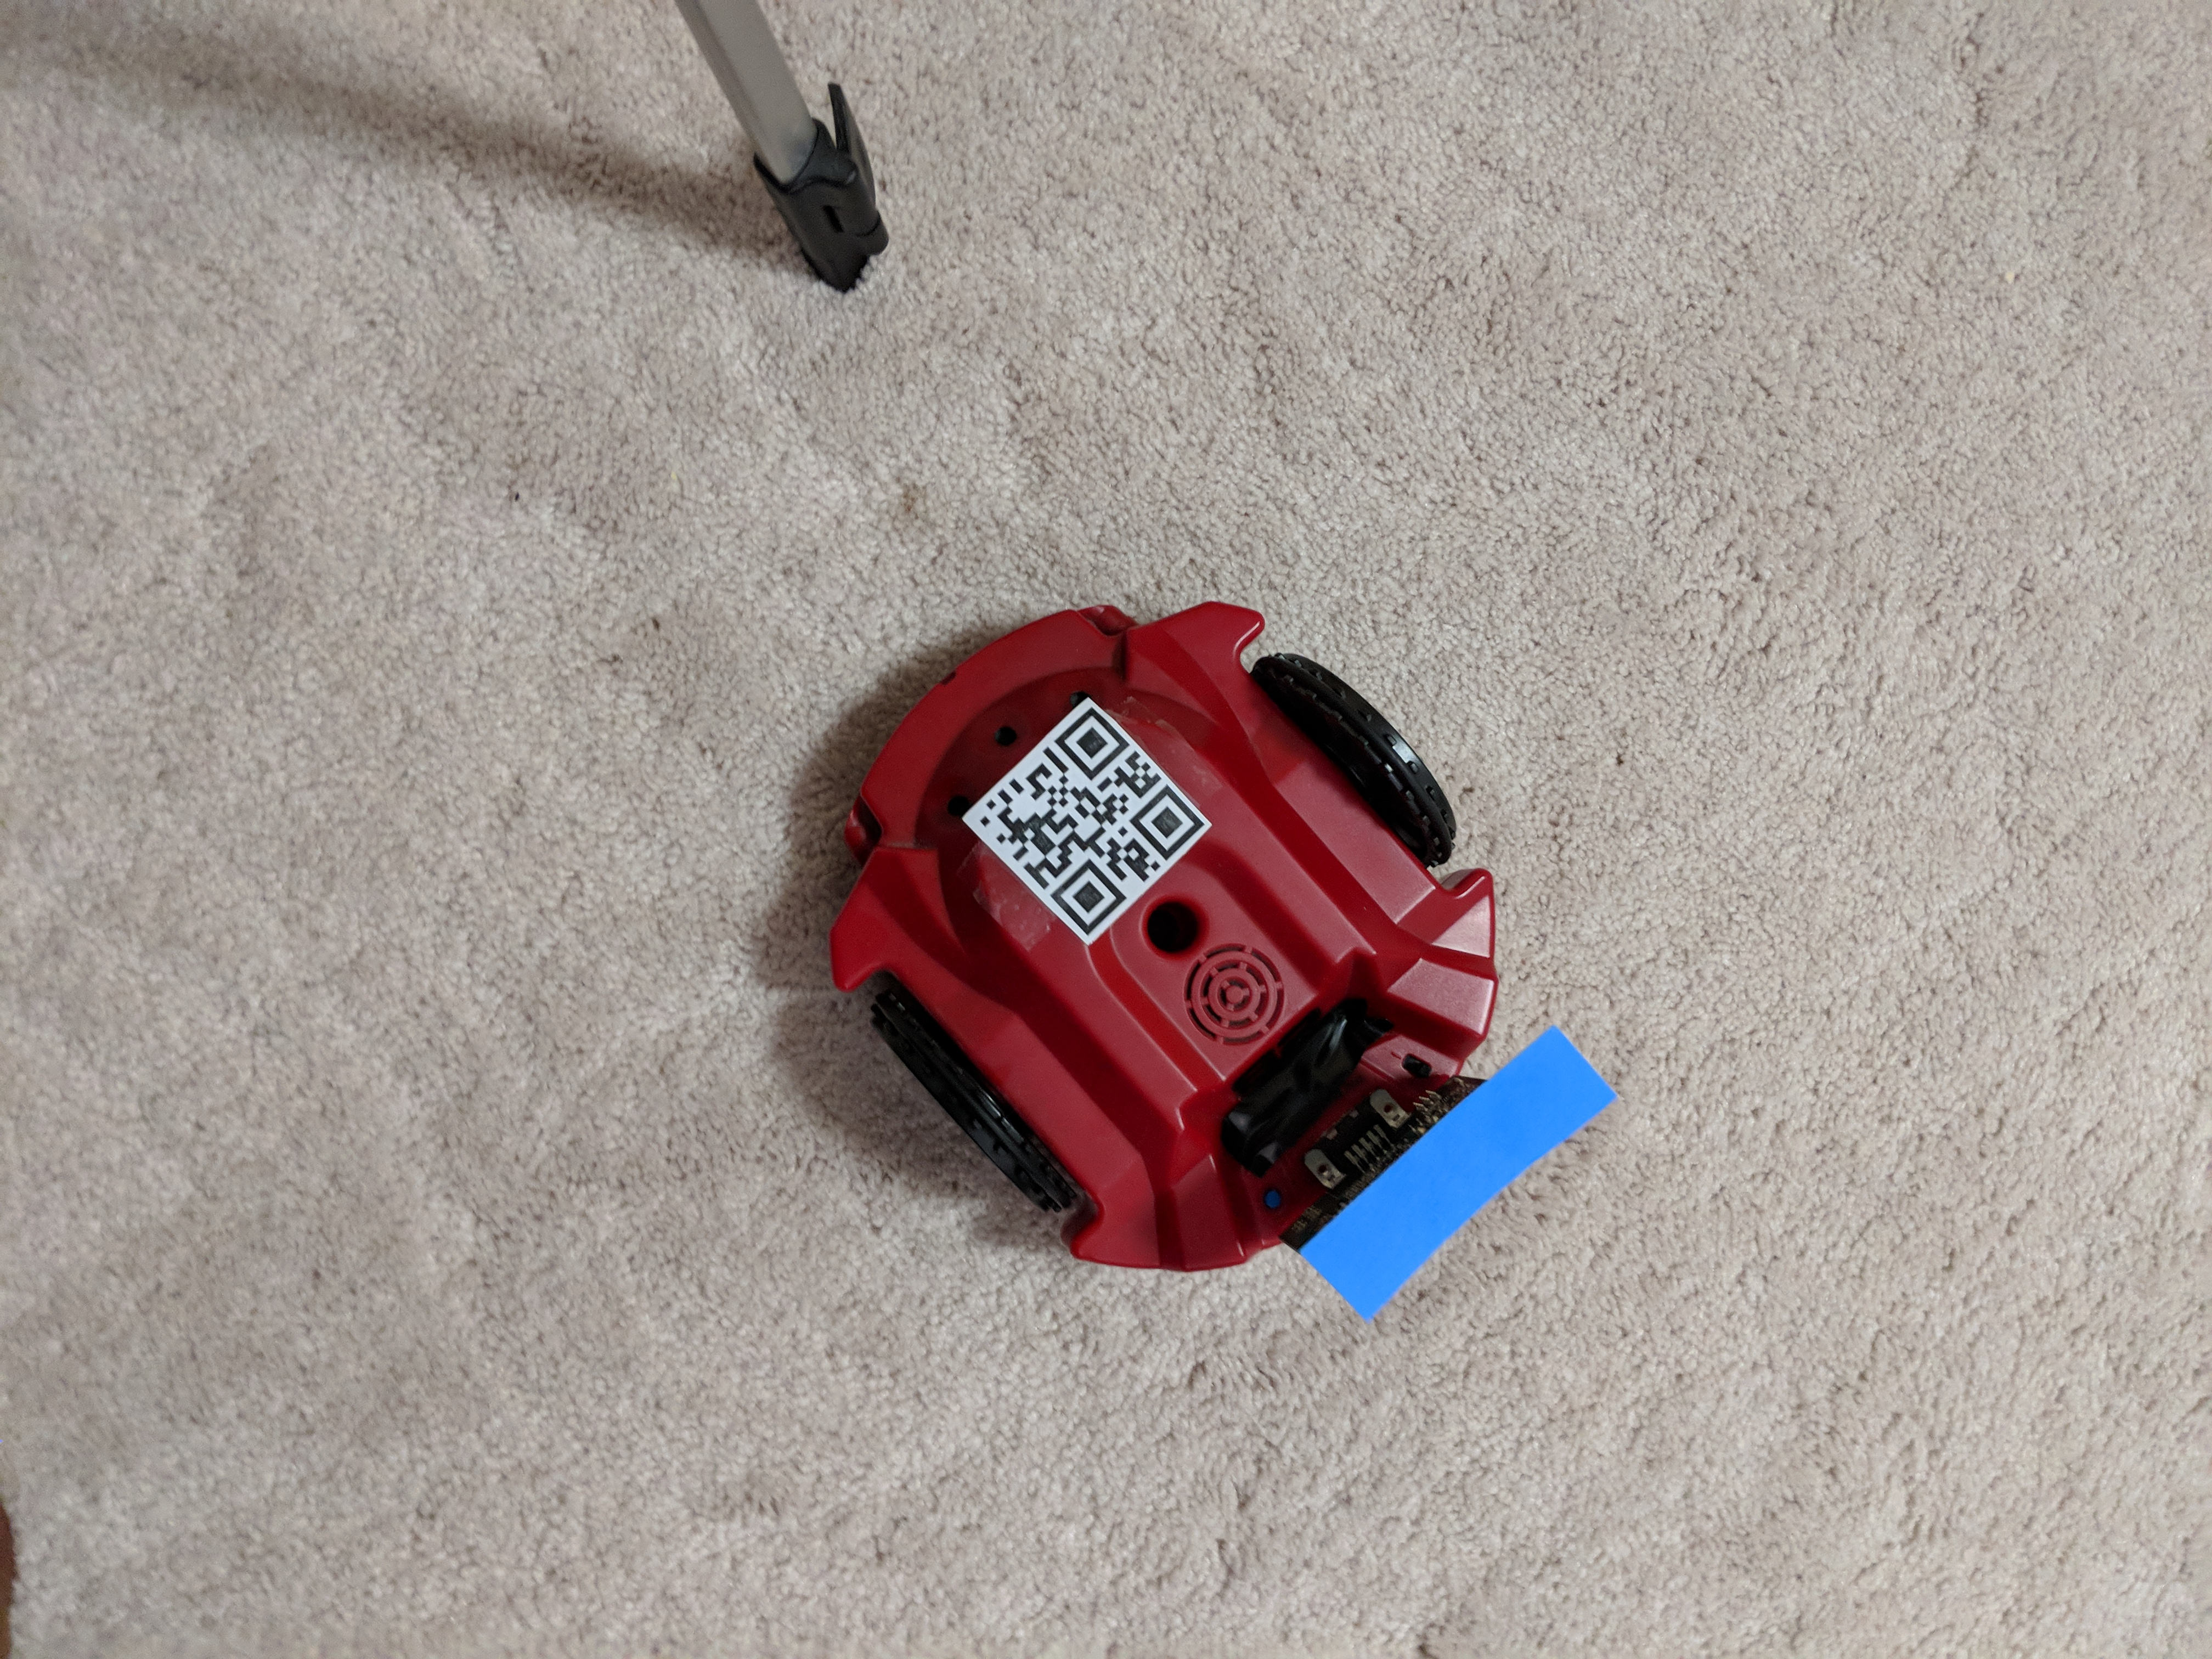board: (1263, 1011, 1677, 1297)
chassis: (836, 596, 1590, 1307)
